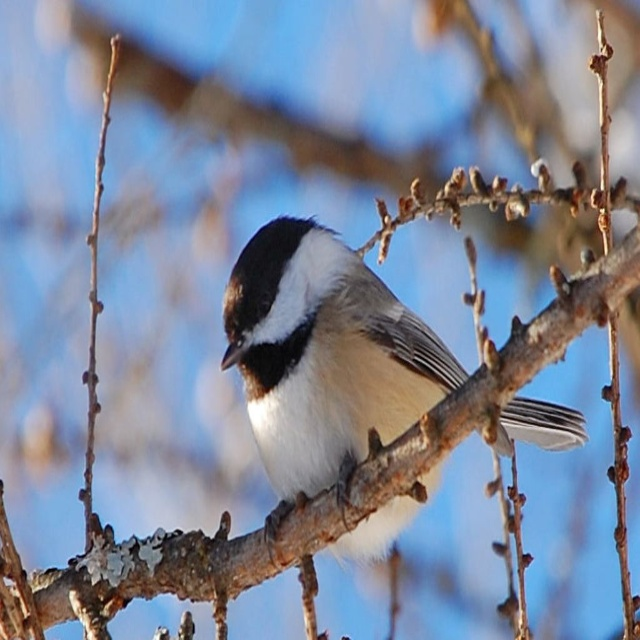Sparrow: (220, 211, 589, 572)
